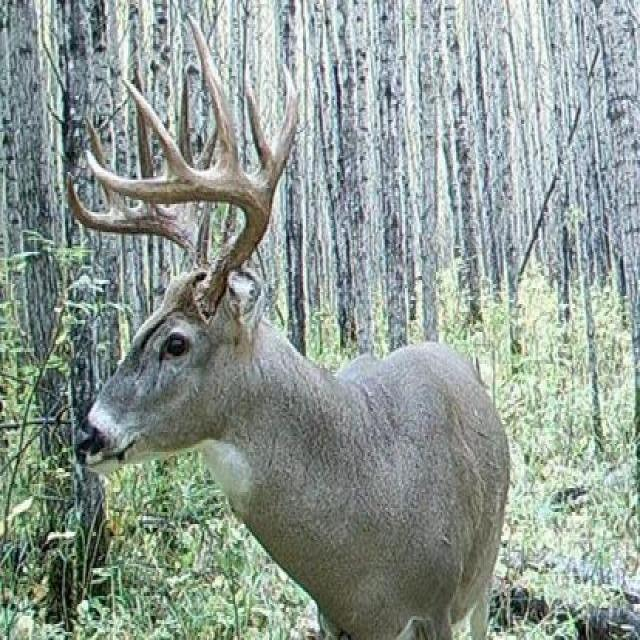deer: (84, 89, 532, 636)
